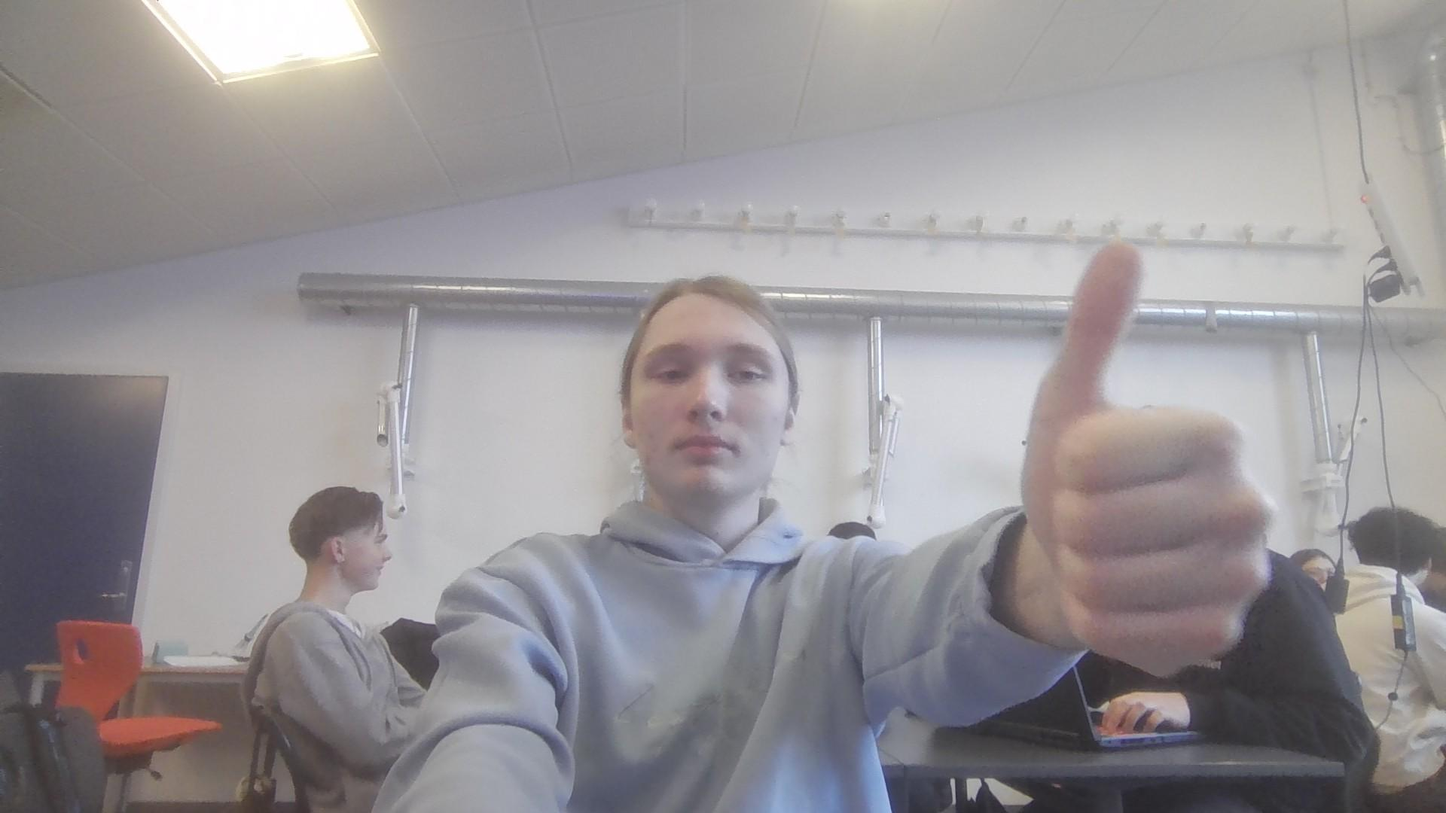thumbs up: (1024, 238, 1274, 682)
